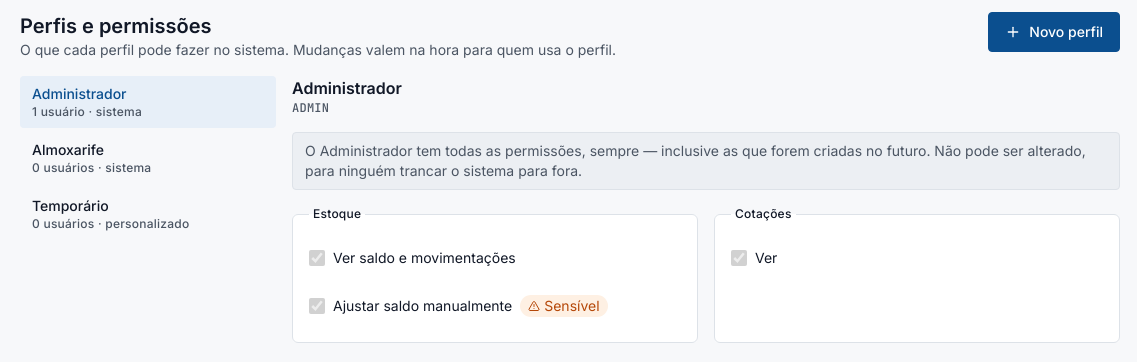
it: PerfisPermissoes › perfil do sistema nao oferece excluir; personalizado sem usuarios oferece
This screenshot has width=1137, height=362.
Click the button "Almoxarife 0 usuários · sistema" at (148, 158), box [20,132,276,184]
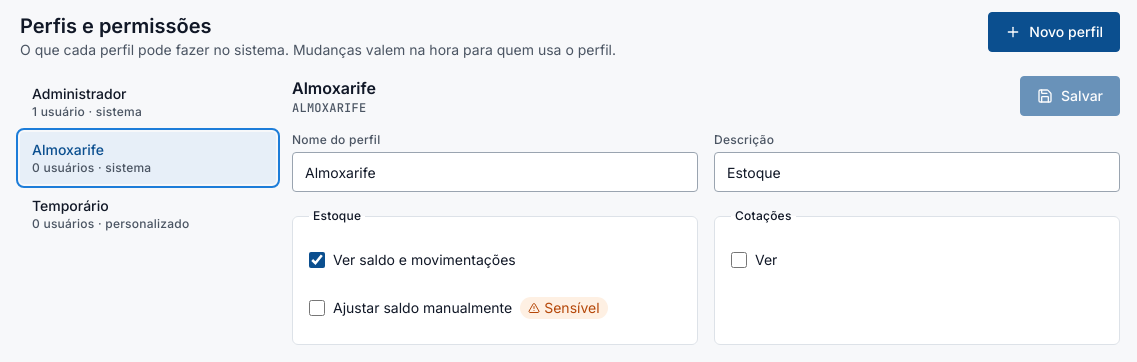
expect the button "Excluir perfil" is not shown: met
Click the button "Temporário 0 usuários · personalizado" at (148, 214), box [20,188,276,240]
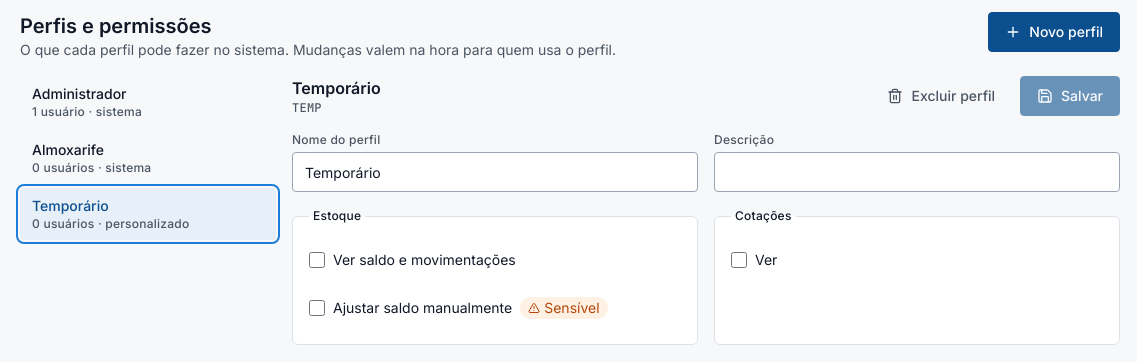
expect the button "Excluir perfil" is enabled: met, box [870,76,1012,116]
